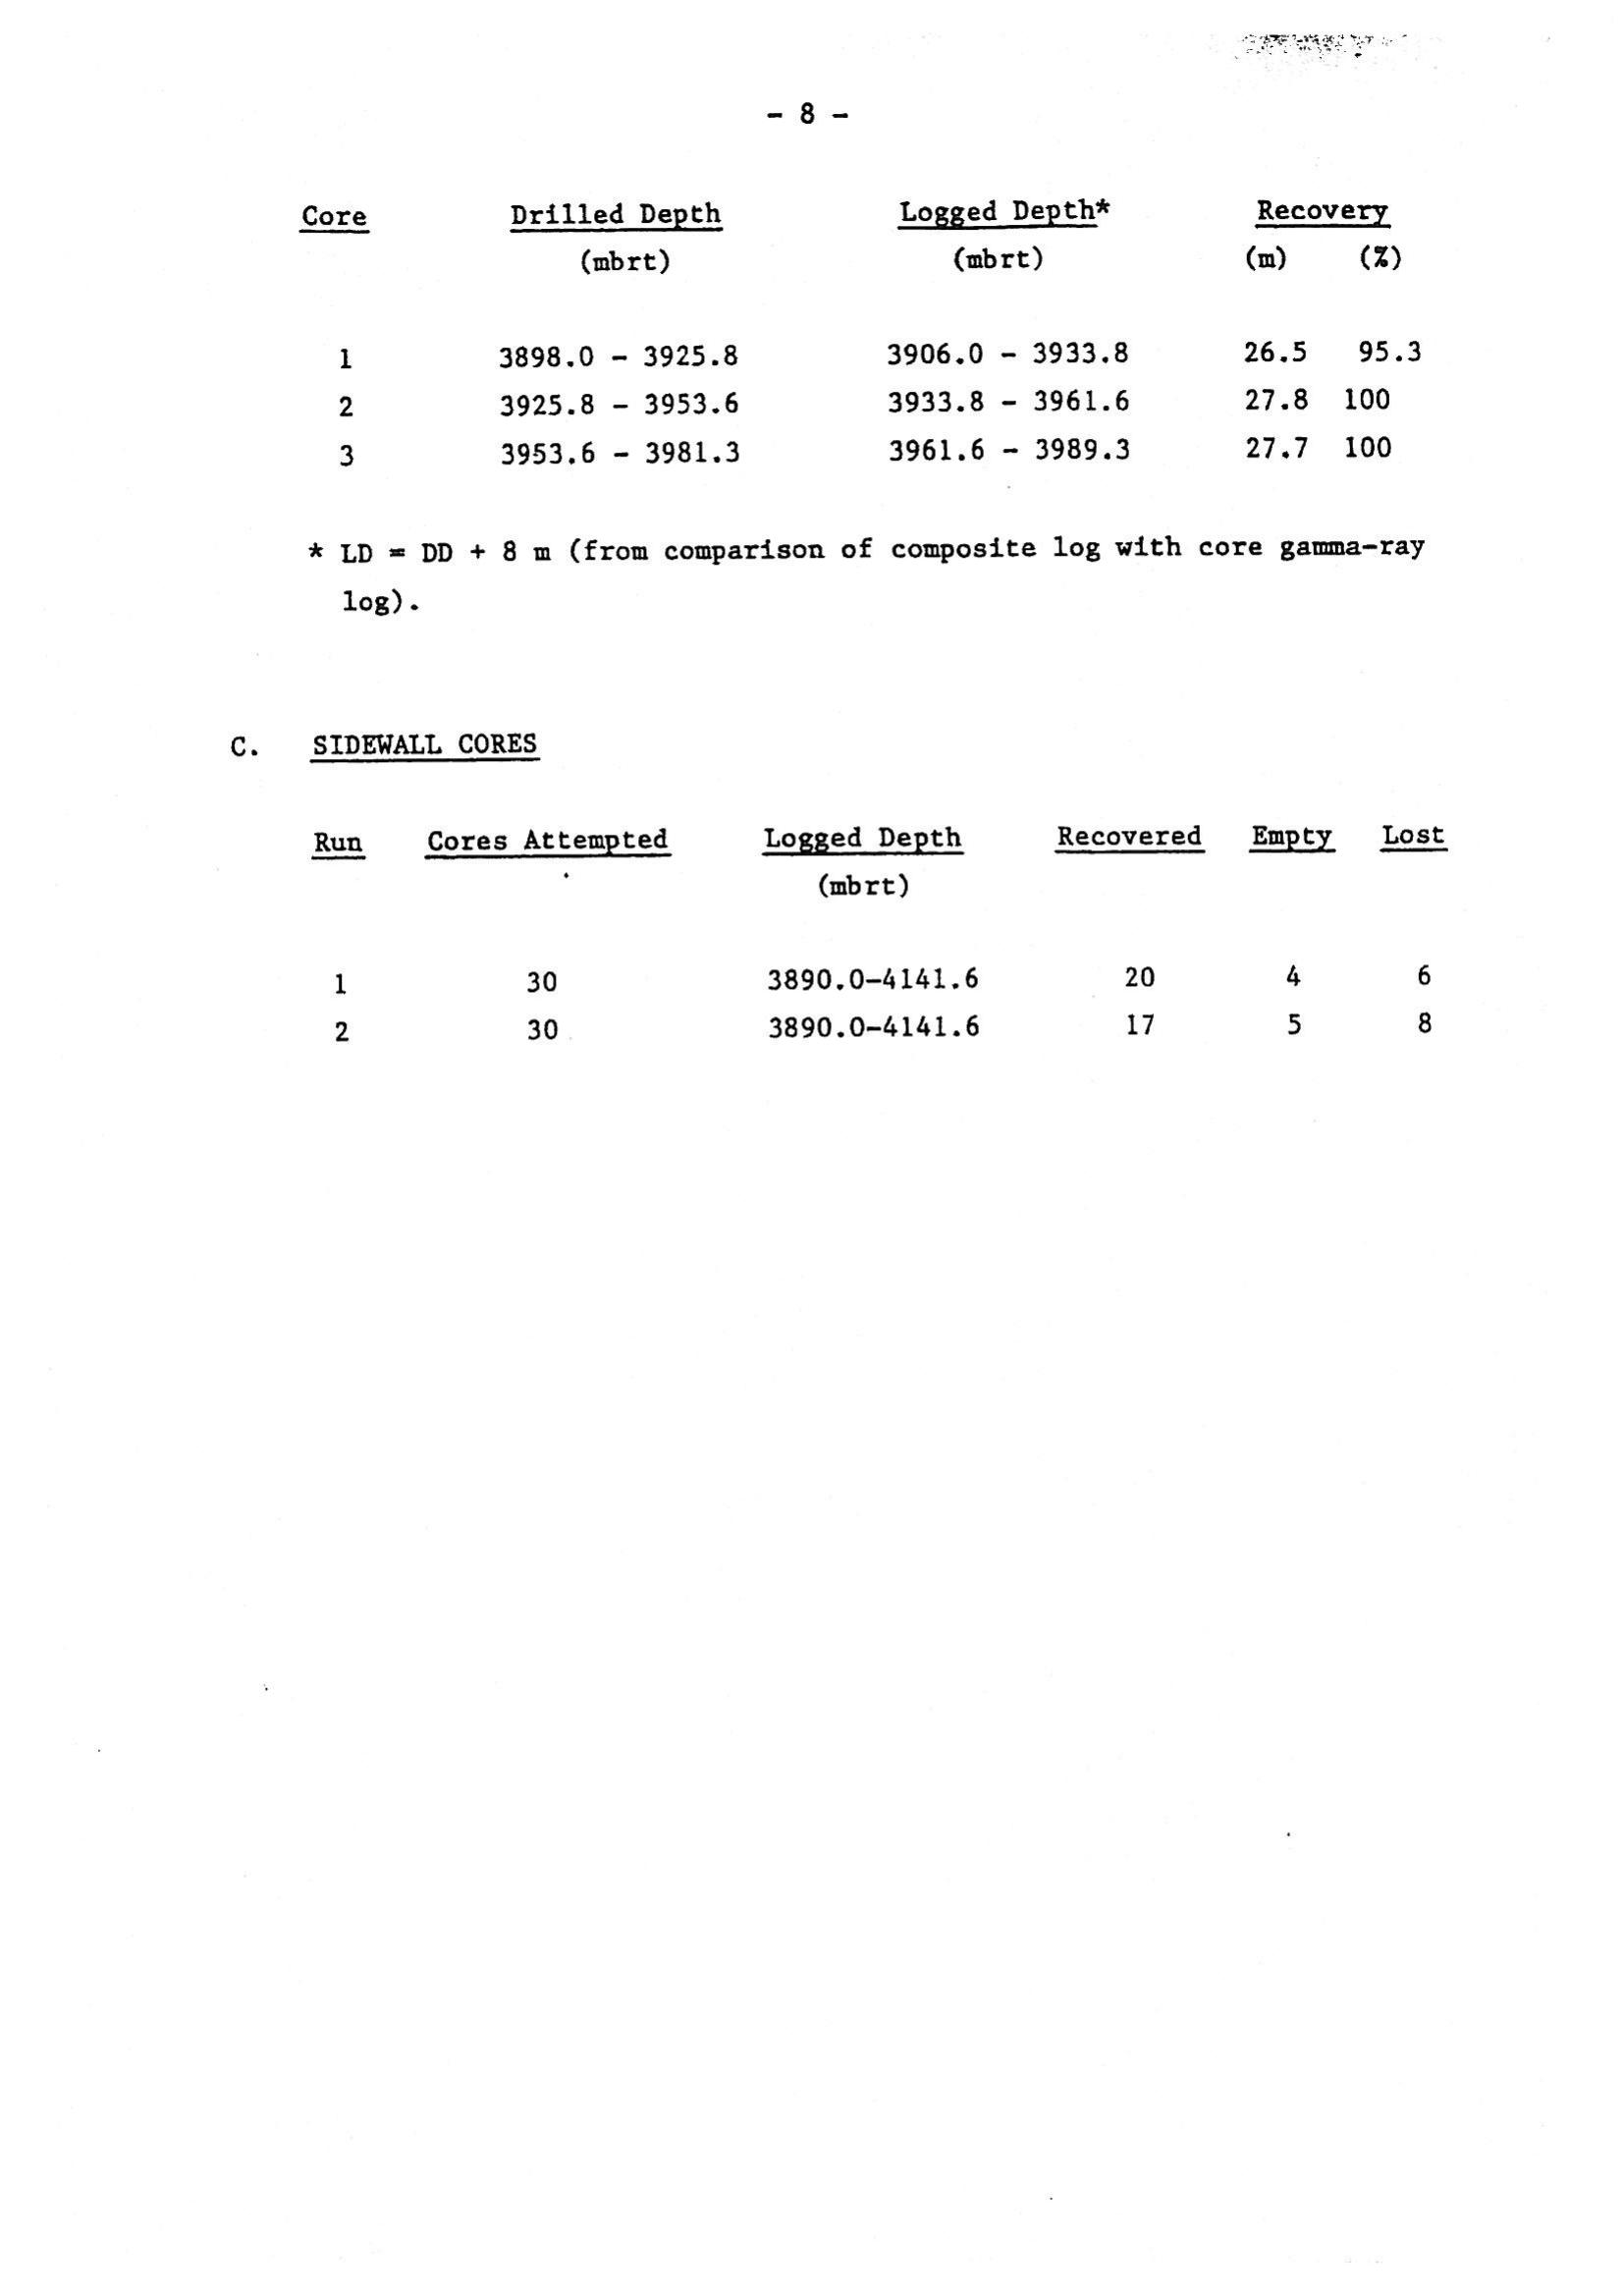table: (195, 682, 1518, 1142), (190, 144, 1449, 509)
text: (293, 527, 1449, 622)
